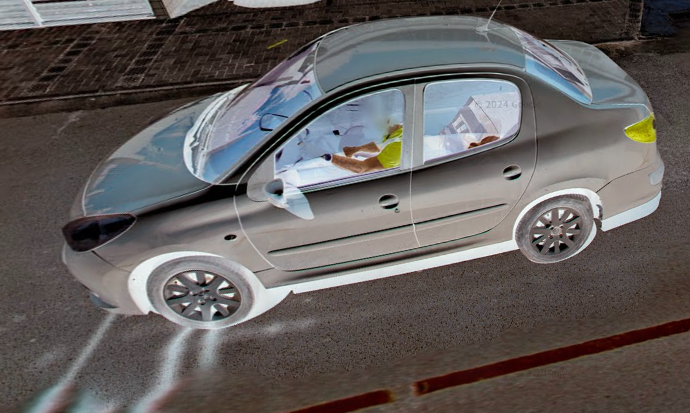car: (60, 1, 666, 333)
